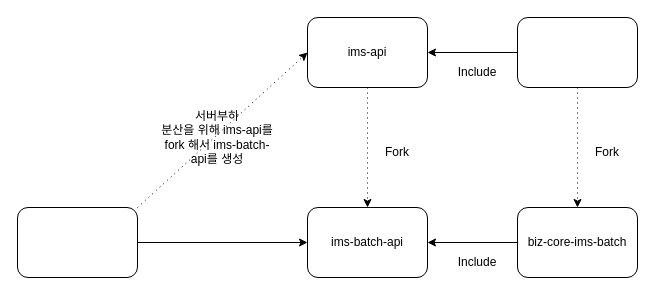
Some shapes in this 655 by 295 pixel diagram are drawn without their labels. The centre of each missing label's shape, as x and y in pixels:
"batch" goes at point 77,242.
"biz-core-ims" goes at point 577,52.
